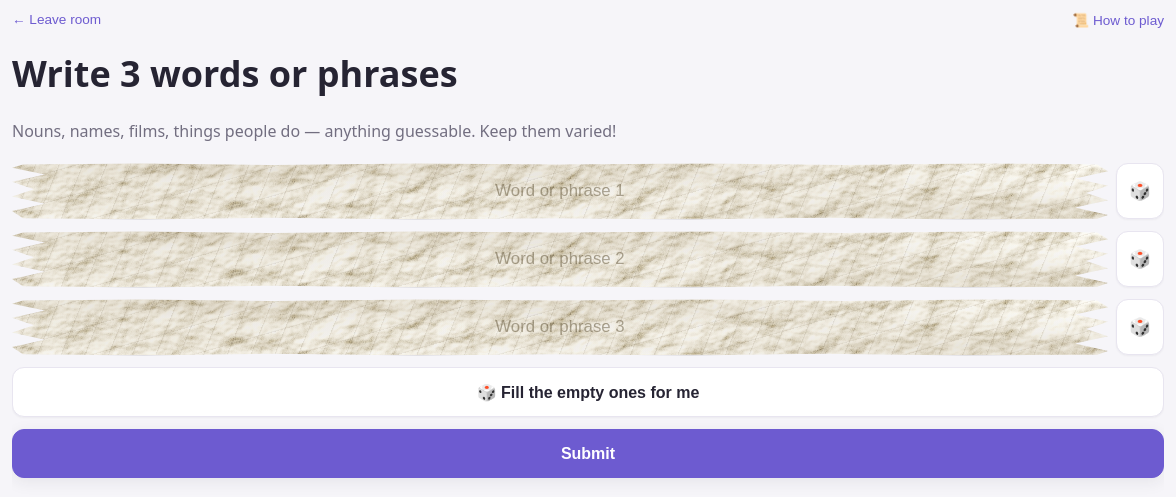
Scenario: the dice button fills only its own box
Click the button named "Suggest a word or phrase for slot 2": (1140, 259) [1116,231,1164,287]
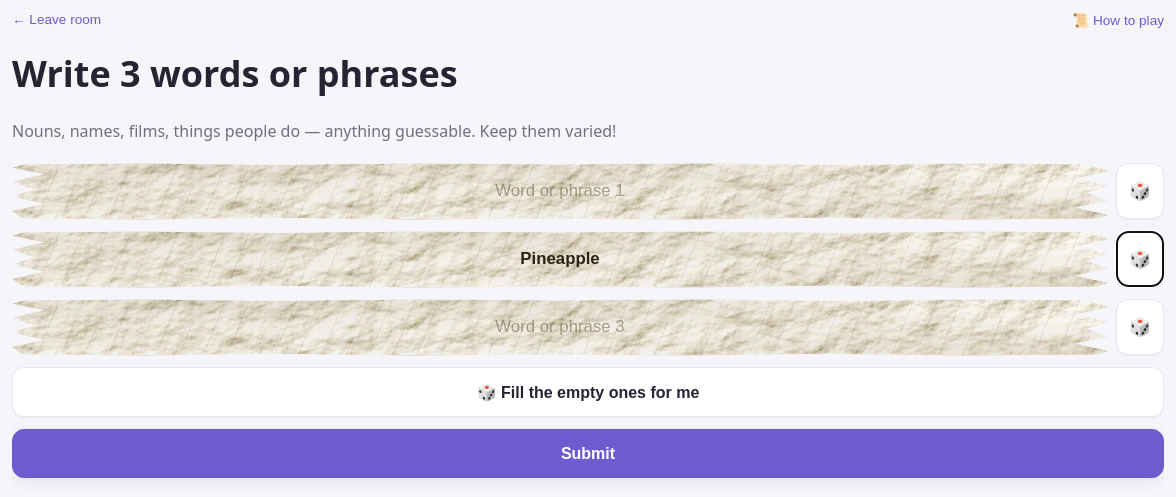
expect the field with placeholder "Word or phrase 1" is empty: met, box [12,168,1108,215]
expect the field with placeholder "Word or phrase 2" holds "Pineapple": met, box [12,236,1108,283]
